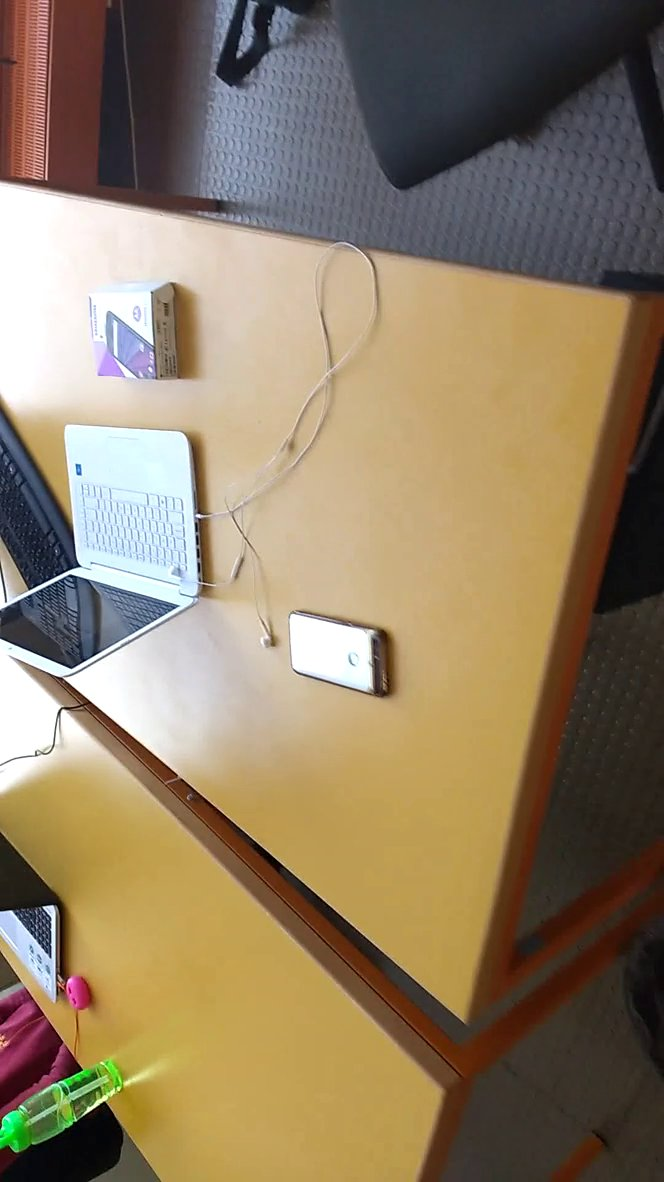phone: (281, 595, 408, 714)
